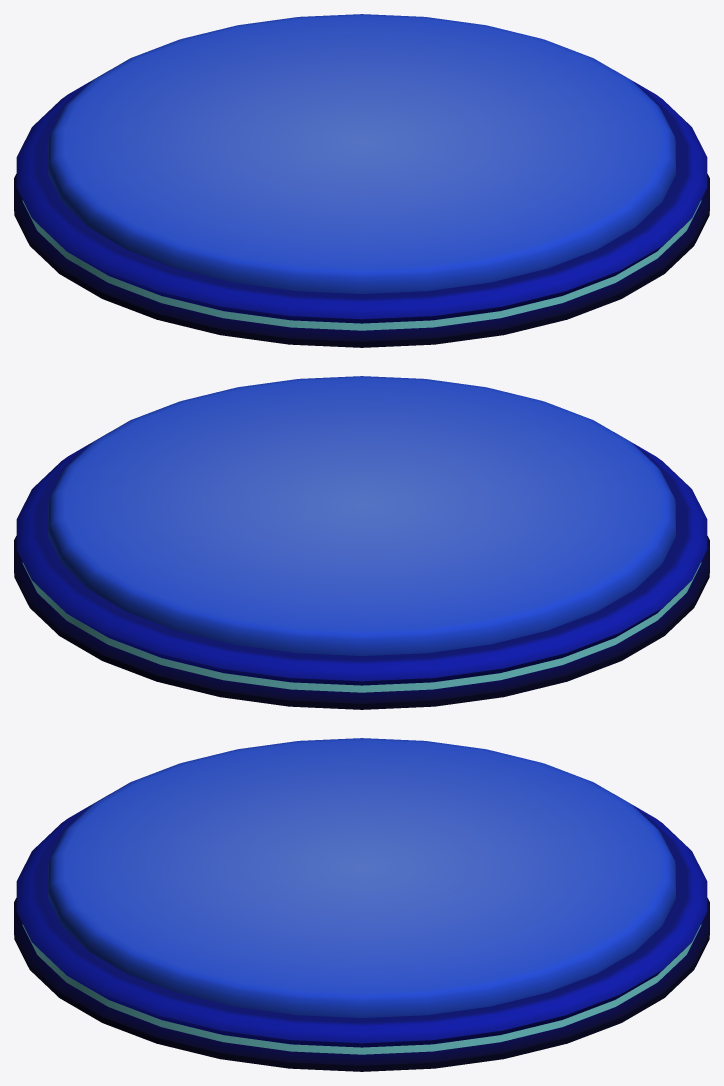
Rendered from Platform_04.fbx.
The picture shows the model from 3 angles, top to bottom: view 1: azimuth 30°, elevation 25°; view 2: azimuth 150°, elevation 25°; view 3: azimuth 270°, elevation 25°; orthographic projection.
Parts seen in each view (by area): view 1: Platform_04; view 2: Platform_04; view 3: Platform_04.
Boxes of the visible parts, box(x1,y1,x2,y2) form: Platform_04: box(14, 14, 709, 347); Platform_04: box(14, 376, 709, 709); Platform_04: box(14, 738, 709, 1071).
Bounding box in the file's own units: 1400 × 127 × 1392.
